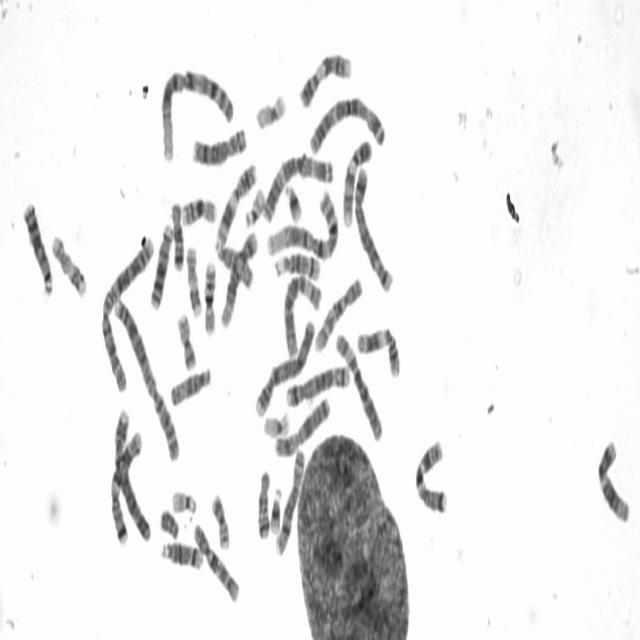A1: (156, 57, 236, 164), (263, 181, 341, 261)
A2: (110, 285, 181, 463), (97, 228, 156, 394)
A3: (258, 143, 334, 224), (306, 88, 388, 156)
B4: (251, 309, 317, 420), (110, 402, 152, 544)
B5: (350, 159, 395, 295), (282, 355, 352, 409)
C10: (189, 513, 242, 606), (310, 267, 364, 355)
C11: (212, 152, 258, 249), (353, 317, 402, 380)
C12: (217, 222, 259, 330), (593, 430, 632, 525)
C6: (332, 323, 384, 443), (280, 266, 324, 358)
C7: (105, 421, 144, 548), (411, 429, 449, 516)
C8: (271, 440, 306, 559), (188, 117, 248, 167)
C9: (295, 42, 354, 110), (338, 130, 374, 230)
D13: (19, 191, 54, 297), (146, 214, 174, 310)
D14: (270, 244, 322, 282), (157, 532, 204, 572)
D15: (211, 231, 255, 291), (166, 357, 213, 408)
E16: (177, 186, 218, 228), (200, 251, 218, 337)
E17: (48, 224, 88, 300), (182, 236, 203, 318)
E18: (254, 460, 272, 541), (167, 193, 185, 272)
F19: (251, 83, 288, 131), (259, 402, 291, 440)
F20: (174, 304, 198, 372), (208, 484, 232, 552)
G21: (281, 174, 304, 224), (267, 478, 283, 536)
G22: (241, 178, 266, 228), (168, 480, 198, 516)
X: (271, 388, 332, 459)
Y: (157, 500, 180, 540)
